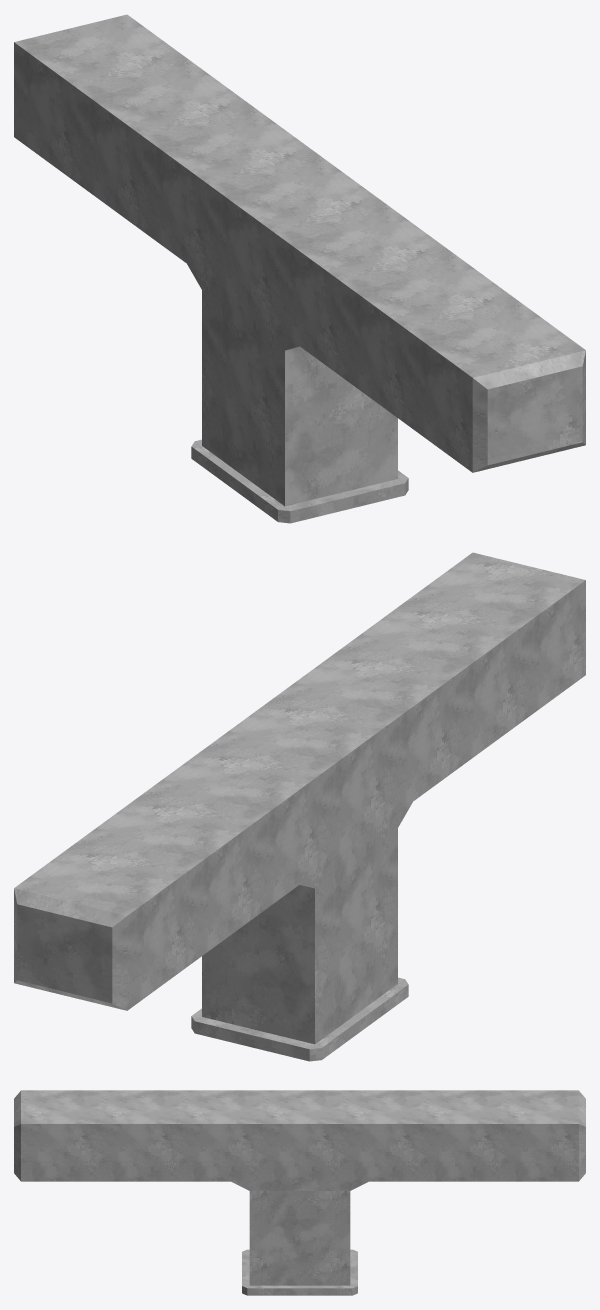
Rendered from Column_Small.fbx.
3 renders of one model, top to bottom at view 1: azimuth 30°, elevation 25°; view 2: azimuth 150°, elevation 25°; view 3: azimuth 270°, elevation 25°, orthographic. The views are drawn at different scales.
Visible parts, largest first — view 1: Column_Small; view 2: Column_Small; view 3: Column_Small.
Boxes of the visible parts, bbox=[...] form: Column_Small: bbox=[14, 14, 585, 523]; Column_Small: bbox=[14, 552, 585, 1061]; Column_Small: bbox=[14, 1090, 585, 1295].
Size of what is drawn, in the model's own units: 598 by 1220 by 3737.
1 material, 1 textured.
